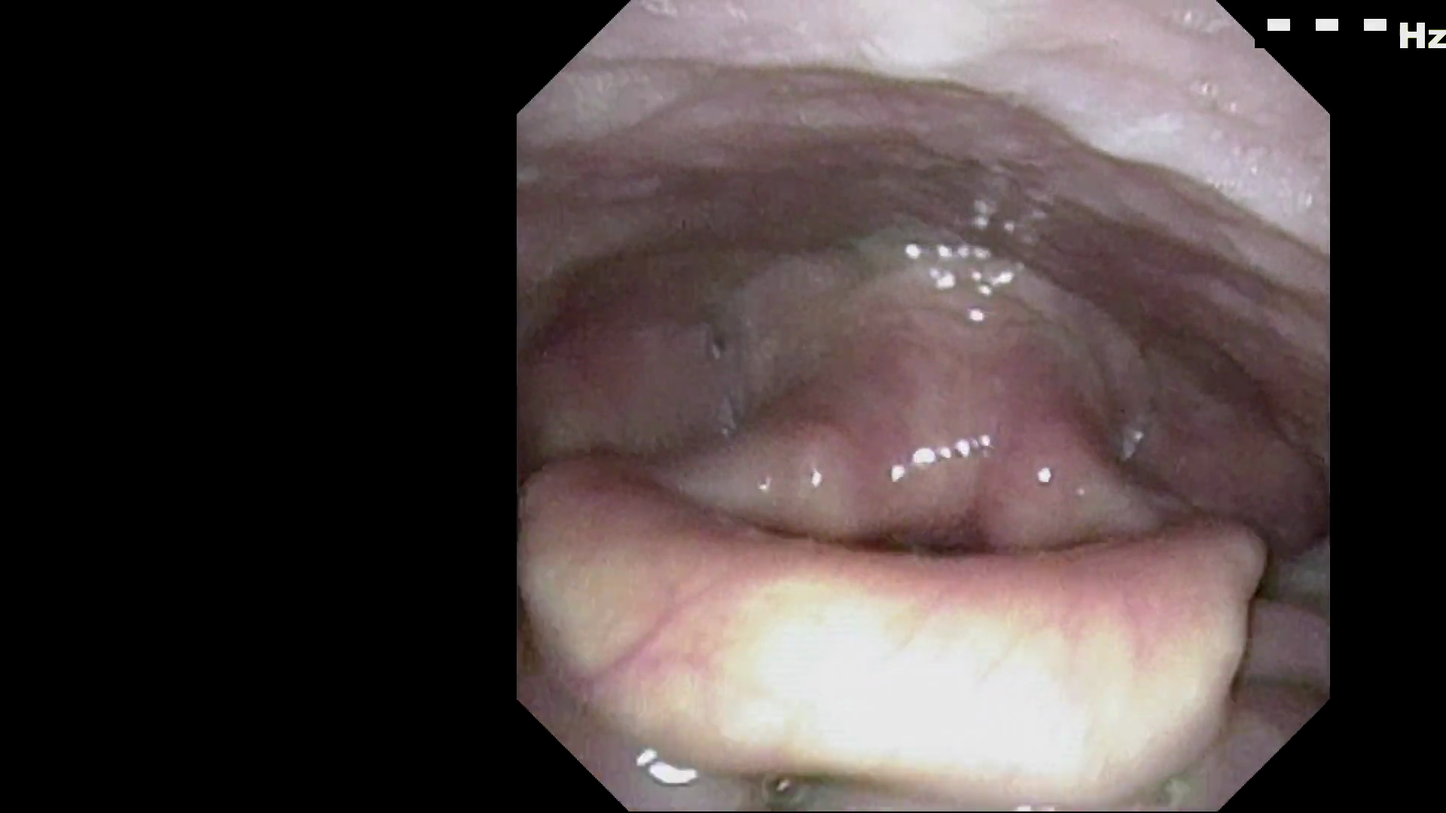epiglottis: (578, 509, 1269, 772)
trachea: (865, 443, 1014, 615)
